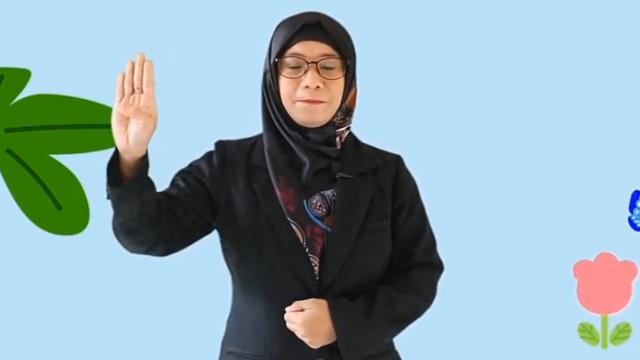B: (112, 52, 158, 160)
